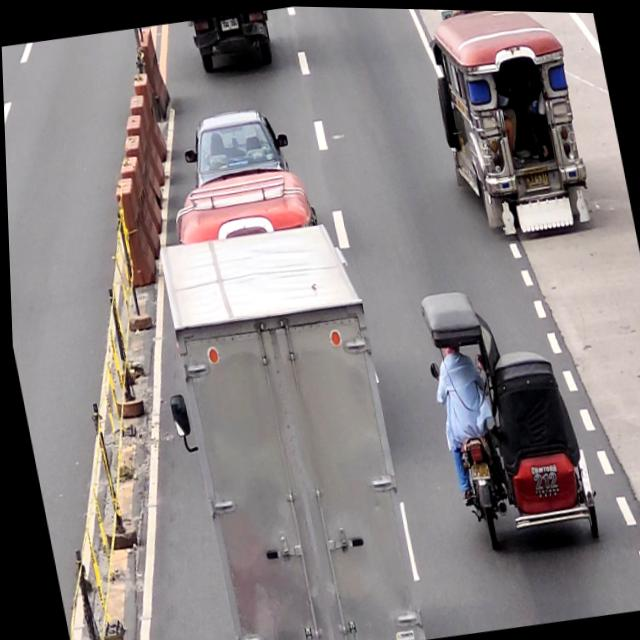Car: (175, 102, 294, 192)
Jeep: (420, 7, 597, 247)
License-Plate: (521, 169, 550, 189), (464, 458, 487, 479)
Tricycle: (415, 272, 601, 559)
Truck: (136, 213, 426, 640)
